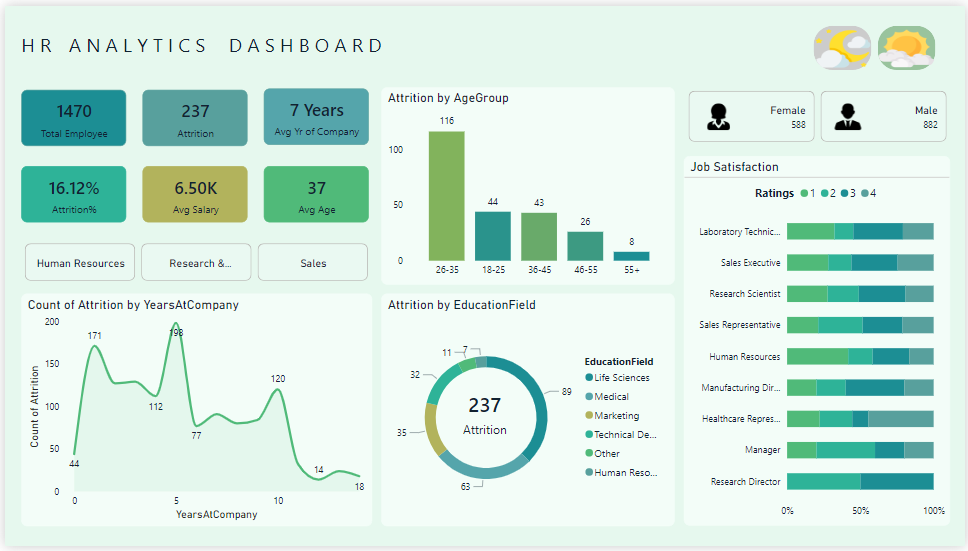

Layout of this report page (visuals, bound fields, positions):
{"tool":"powerbi","page":{"name":"HR Dashboard","canvas":[1280,720],"ordinal":0},"visuals":[{"type":"image","box":[1099.1,123.5,57.6,45.3],"z":0},{"type":"image","box":[922.1,124.9,59,45.3],"z":1000},{"type":"card","fields":{"Values":["HR_Analytics.Employee_Attrition"]},"box":[182.5,111.1,140,75],"z":2000},{"type":"card","fields":{"Values":["HR_Analytics.Employee_Count"]},"box":[22,111.1,140,75],"z":3000},{"type":"card","fields":{"Values":["HR_Analytics.Years_with_Text"]},"box":[345.8,109.8,140,75],"z":4000},{"type":"card","fields":{"Values":["HR_Analytics.Attrition%"]},"box":[22,212.7,140,75.5],"z":5000},{"type":"card","fields":{"Values":["HR_Analytics.Avg_Salary"]},"box":[182.5,214.1,140,75.5],"z":6000},{"type":"card","fields":{"Values":["HR_Analytics.Avg_Age"]},"box":[345.8,212.7,140,75.5],"z":7000},{"type":"areaChart","fields":{"Y":["CountNonNull(HR_Analytics.Attrition)"],"Category":["HR_Analytics.YearsAtCompany"]},"box":[22,382.8,467.9,310.1],"z":8000},{"type":"donutChart","title":"Attrition by EducationField","fields":{"Y":["HR_Analytics.Employee_Attrition"],"Category":["HR_Analytics.EducationField"]},"box":[502.2,382.8,391.1,310.1],"z":9000},{"type":"clusteredColumnChart","title":"Attrition by AgeGroup","fields":{"Category":["HR_Analytics.AgeGroup"],"Y":["HR_Analytics.Employee_Attrition"]},"box":[502.2,108.4,391.1,263.5],"z":10000},{"type":"hundredPercentStackedBarChart","title":"Job Satisfaction","fields":{"Y":["HR_Analytics.Employee_Attrition"],"Series":["HR_Analytics.JobSatisfaction"],"Category":["HR_Analytics.JobRole"]},"box":[905.7,200.3,355.4,492.6],"z":11000},{"type":"advancedSlicerVisual","fields":{"Values":["HR_Analytics.Gender"]},"box":[905.7,107,355.4,78.2],"z":12000},{"type":"advancedSlicerVisual","fields":{"Values":["HR_Analytics.Department"]},"box":[22,311.5,467.9,60.4],"z":13000},{"type":"textbox","box":[22,30.2,529.7,61.7],"z":14000}]}

Visuals, with their boxes in screenshot pixels (x1, y1, x2, y2), scaled from the page's 1280x720 canvas onto the 968x551 screenshot:
image: bbox=(831, 95, 875, 129)
image: bbox=(697, 96, 742, 130)
card - HR_Analytics.Employee_Attrition: bbox=(138, 85, 244, 142)
card - HR_Analytics.Employee_Count: bbox=(17, 85, 123, 142)
card - HR_Analytics.Years_with_Text: bbox=(262, 84, 367, 141)
card - HR_Analytics.Attrition%: bbox=(17, 163, 123, 221)
card - HR_Analytics.Avg_Salary: bbox=(138, 164, 244, 222)
card - HR_Analytics.Avg_Age: bbox=(262, 163, 367, 221)
areaChart - CountNonNull(HR_Analytics.Attrition) x HR_Analytics.YearsAtCompany: bbox=(17, 293, 370, 530)
"Attrition by EducationField" donutChart: bbox=(380, 293, 676, 530)
"Attrition by AgeGroup" clusteredColumnChart: bbox=(380, 83, 676, 285)
"Job Satisfaction" hundredPercentStackedBarChart: bbox=(685, 153, 954, 530)
advancedSlicerVisual - HR_Analytics.Gender: bbox=(685, 82, 954, 142)
advancedSlicerVisual - HR_Analytics.Department: bbox=(17, 238, 370, 285)
textbox: bbox=(17, 23, 417, 70)
